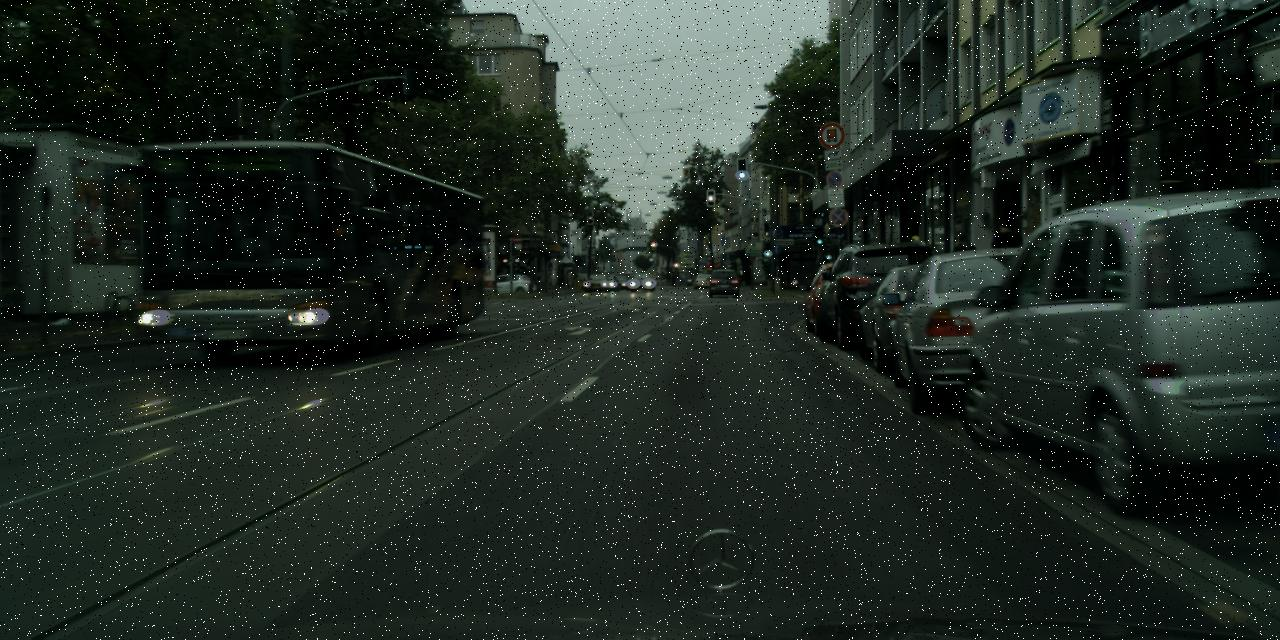ped: (989, 222, 1022, 302), (952, 234, 977, 298)
